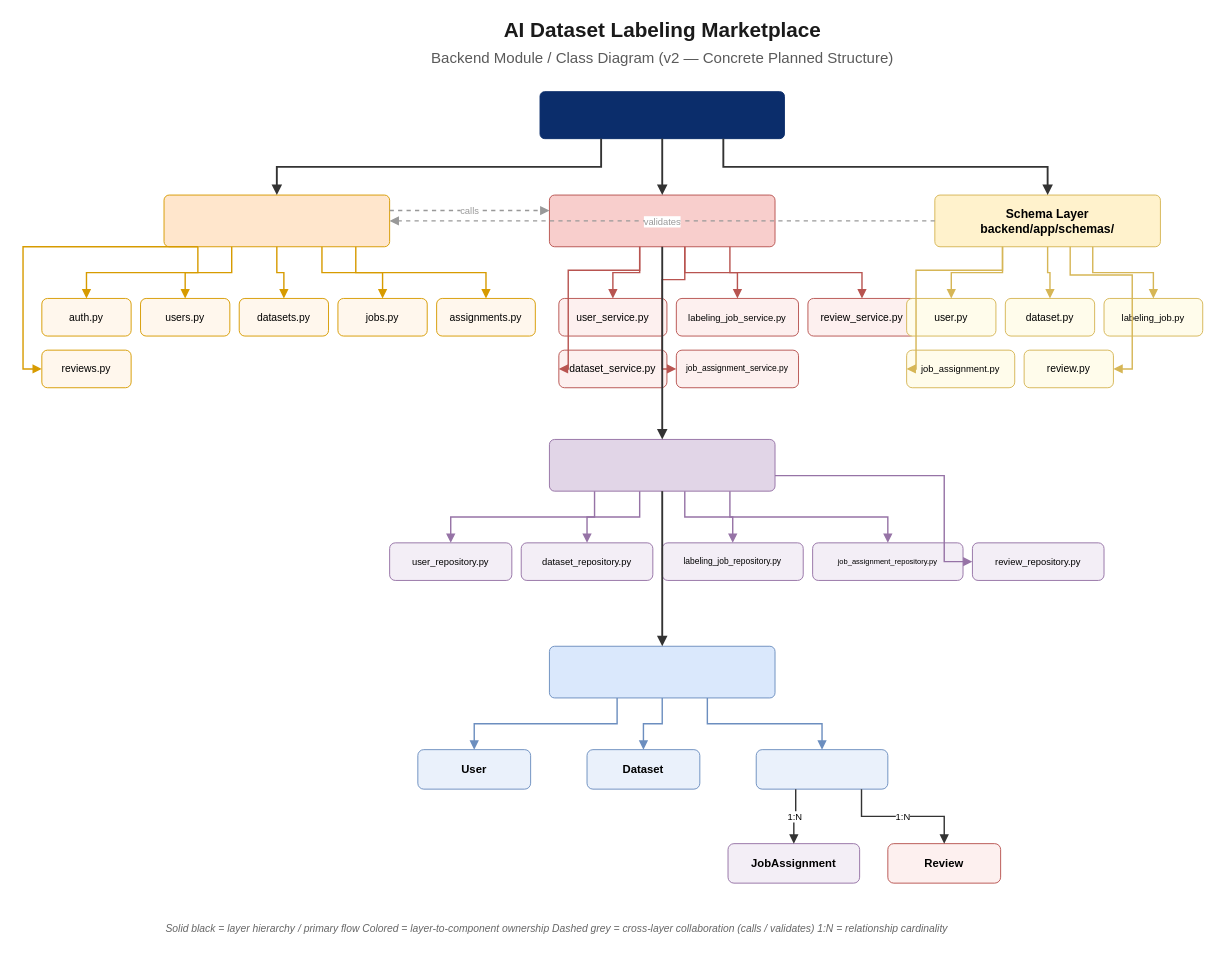
The diagram is 1220 pixels wide and 953 high, and some of its shapes have lost their labels. The shapes that lost their labels are listed below. From the top down, each one's centre as x and y in pixels, then its label:
At pixel 661 115: "BACKEND MODULES".
At pixel 276 220: "API Layer backend/app/api/".
At pixel 661 220: "Service Layer backend/app/services/".
At pixel 661 465: "Repository Layer backend/app/repositories/".
At pixel 661 671: "Model Layer backend/app/models/".
At pixel 821 769: "LabelingJob".
